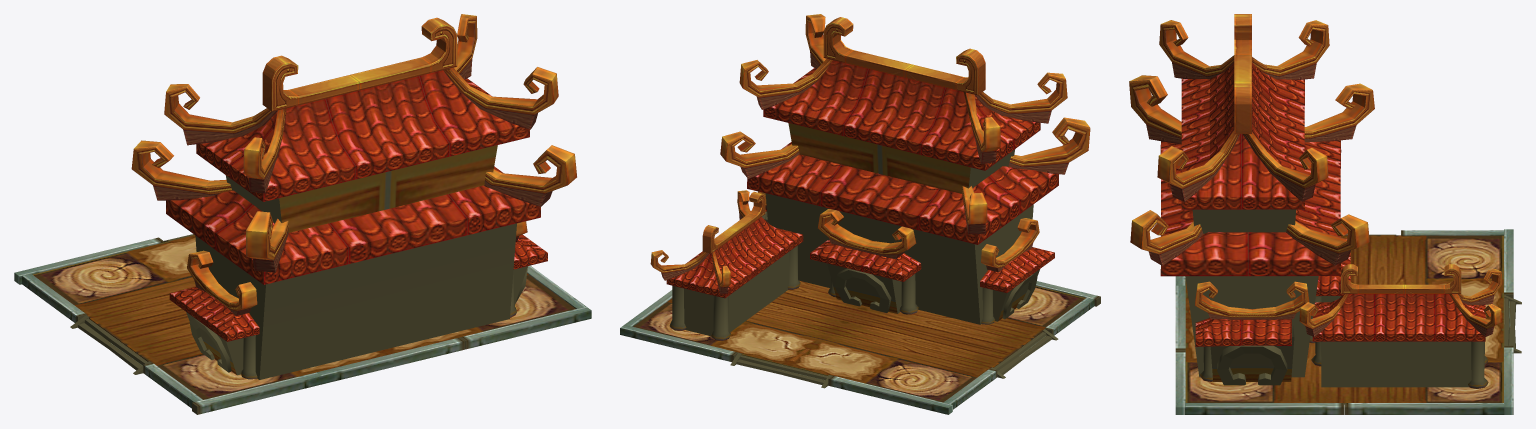
The model's file is jianzhu06.FBX.
3 views of the same model, side by side, from view 1: azimuth 30°, elevation 25°; view 2: azimuth 150°, elevation 25°; view 3: azimuth 270°, elevation 25° (orthographic). The views are drawn at different scales.
Visible parts, largest first — view 1: Object149; view 2: Object149; view 3: Object149.
Part boxes in pixels (left/top/right/bottom): Object149: left=14, top=14, right=591, bottom=414; Object149: left=620, top=14, right=1100, bottom=414; Object149: left=1129, top=14, right=1521, bottom=414.
Size of the model in its own units: 833 by 594 by 767.
